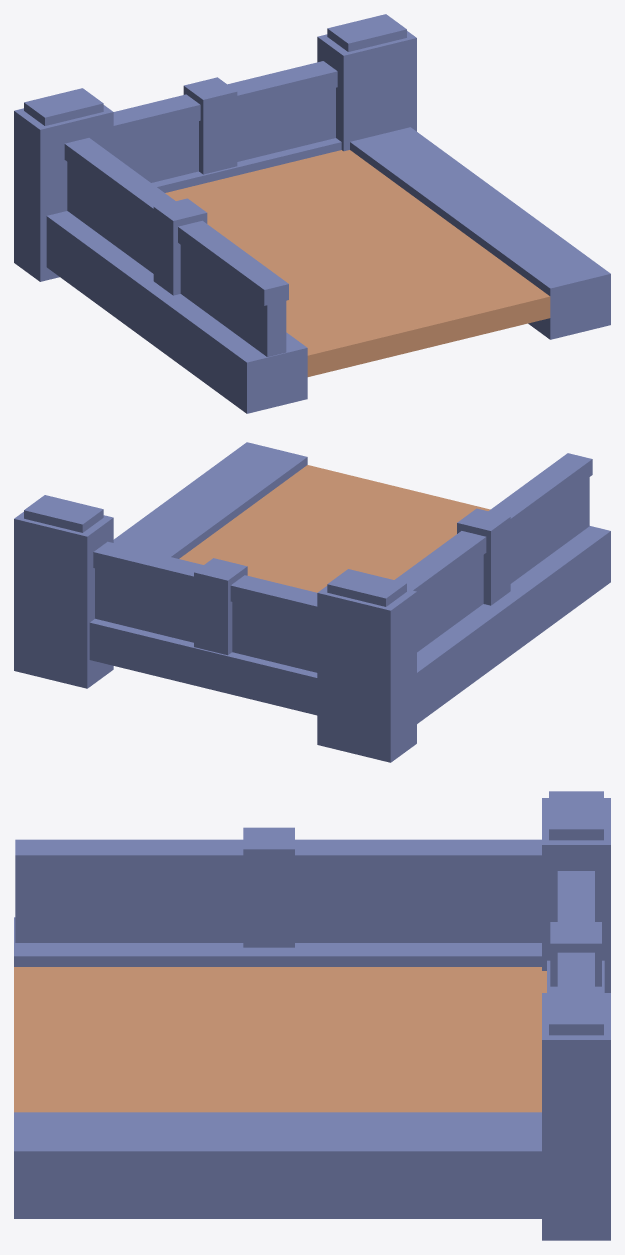
File: bridge_2_part_2.fbx
The picture shows the model from 3 angles, top to bottom: view 1: azimuth 30°, elevation 25°; view 2: azimuth 150°, elevation 25°; view 3: azimuth 270°, elevation 25°; orthographic projection. The views are drawn at different scales.
Visible parts, largest first — view 1: bridge_2_part_2; view 2: bridge_2_part_2; view 3: bridge_2_part_2.
Part boxes in pixels (x1,y1,x2,y2): bridge_2_part_2: (14, 14, 610, 413); bridge_2_part_2: (14, 442, 610, 762); bridge_2_part_2: (14, 791, 610, 1240).
Size of the model in its own units: 9.94 by 4.05 by 10.35.
